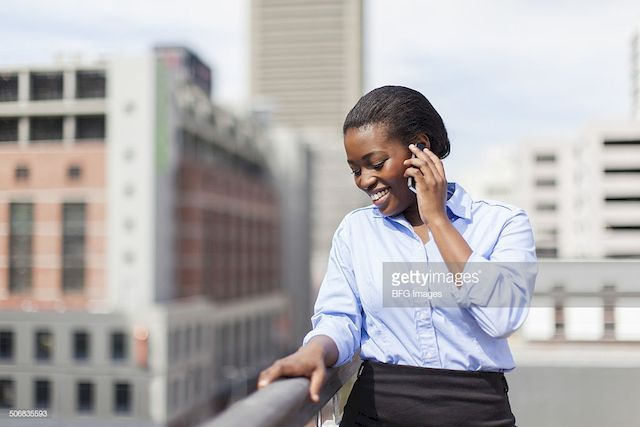phone: (407, 139, 430, 196)
talk: (348, 138, 451, 219)
